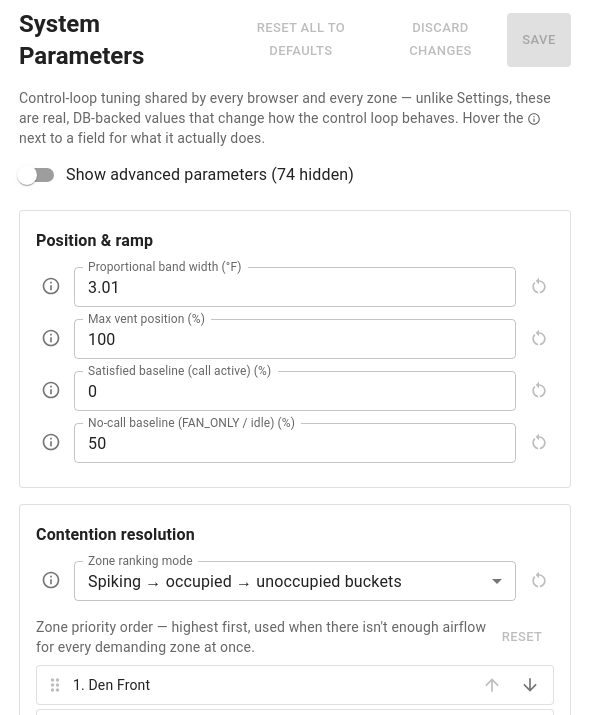
SystemParametersPage › changing the enum field (zone ranking mode) marks it dirty
This screenshot has width=589, height=715.
Expected: the heading "Contention resolution" is shown, [36, 525, 195, 544]
Step 1. Click the dropdown named "Zone ranking mode" → (245, 581), box [88, 572, 402, 591]
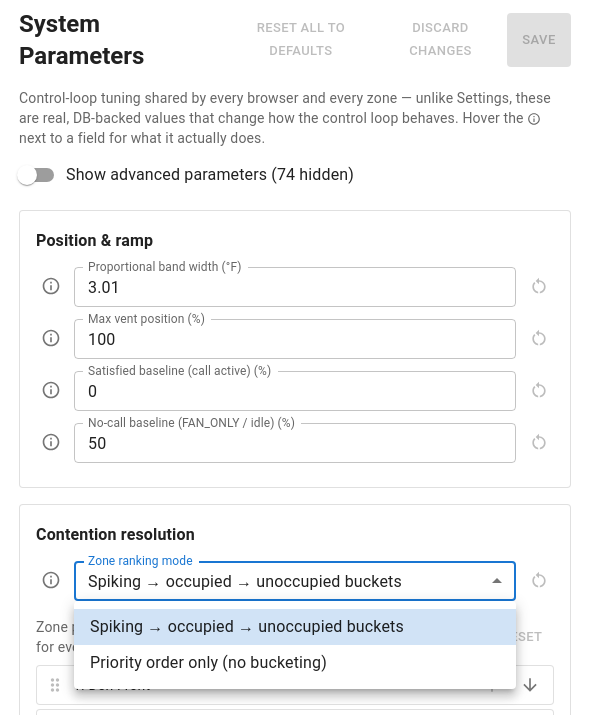
Step 2. Click the option "Priority order only (no bucketing)" → (208, 662), box [90, 653, 327, 672]
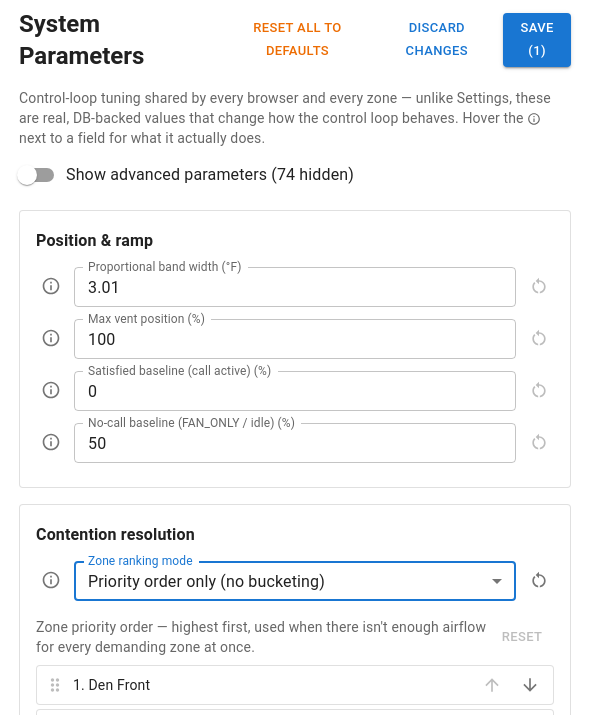
Result: the button "Save (1)" is enabled at [503, 13, 571, 67]
